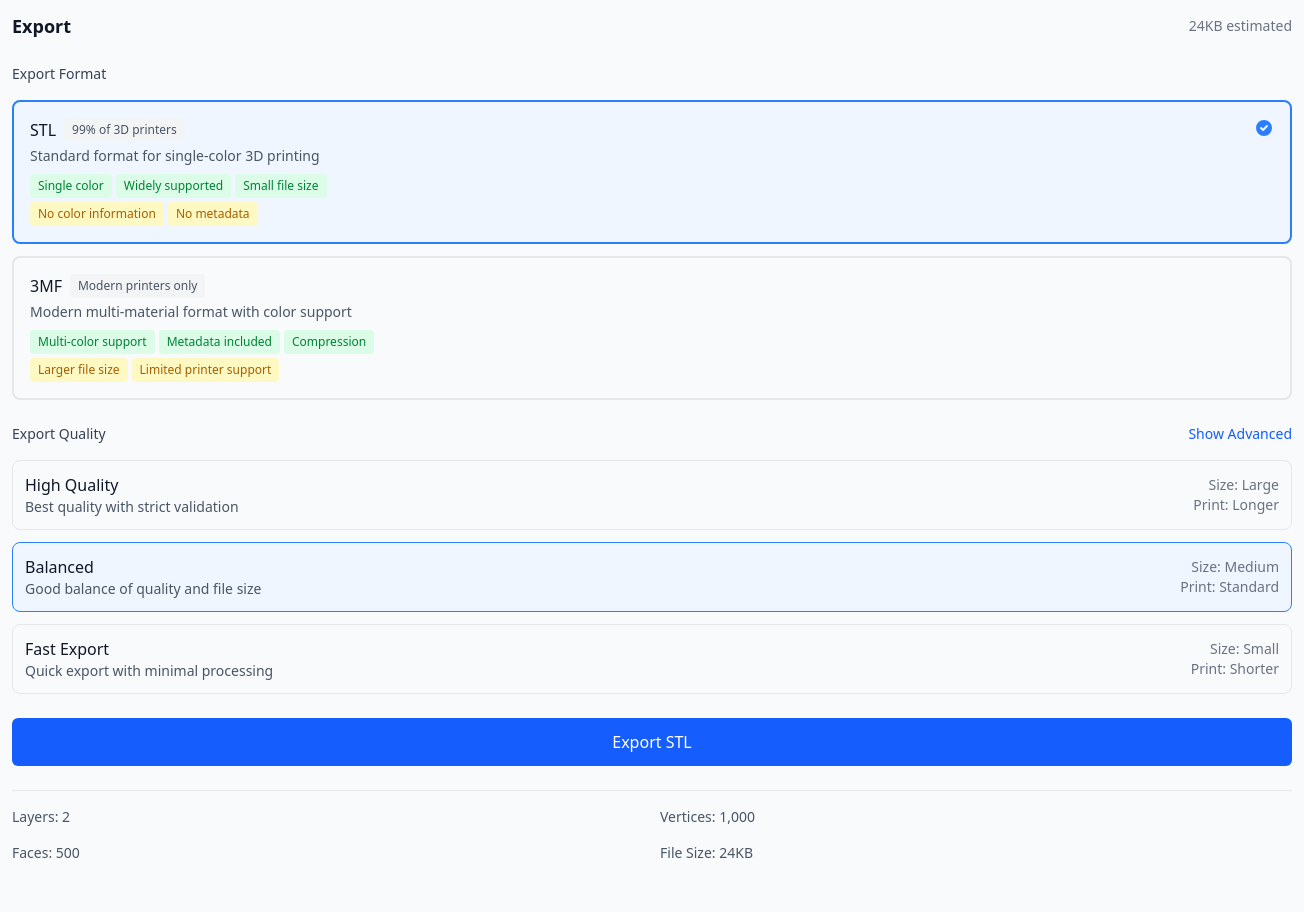
Test: ExportPanel › allows format selection
expect the radio button labelled "STL" is checked: met, box 12,100 -> 1292,244
Select 3MF
Click the radio button labelled "3MF" at (652, 328), box 12,256 -> 1292,400
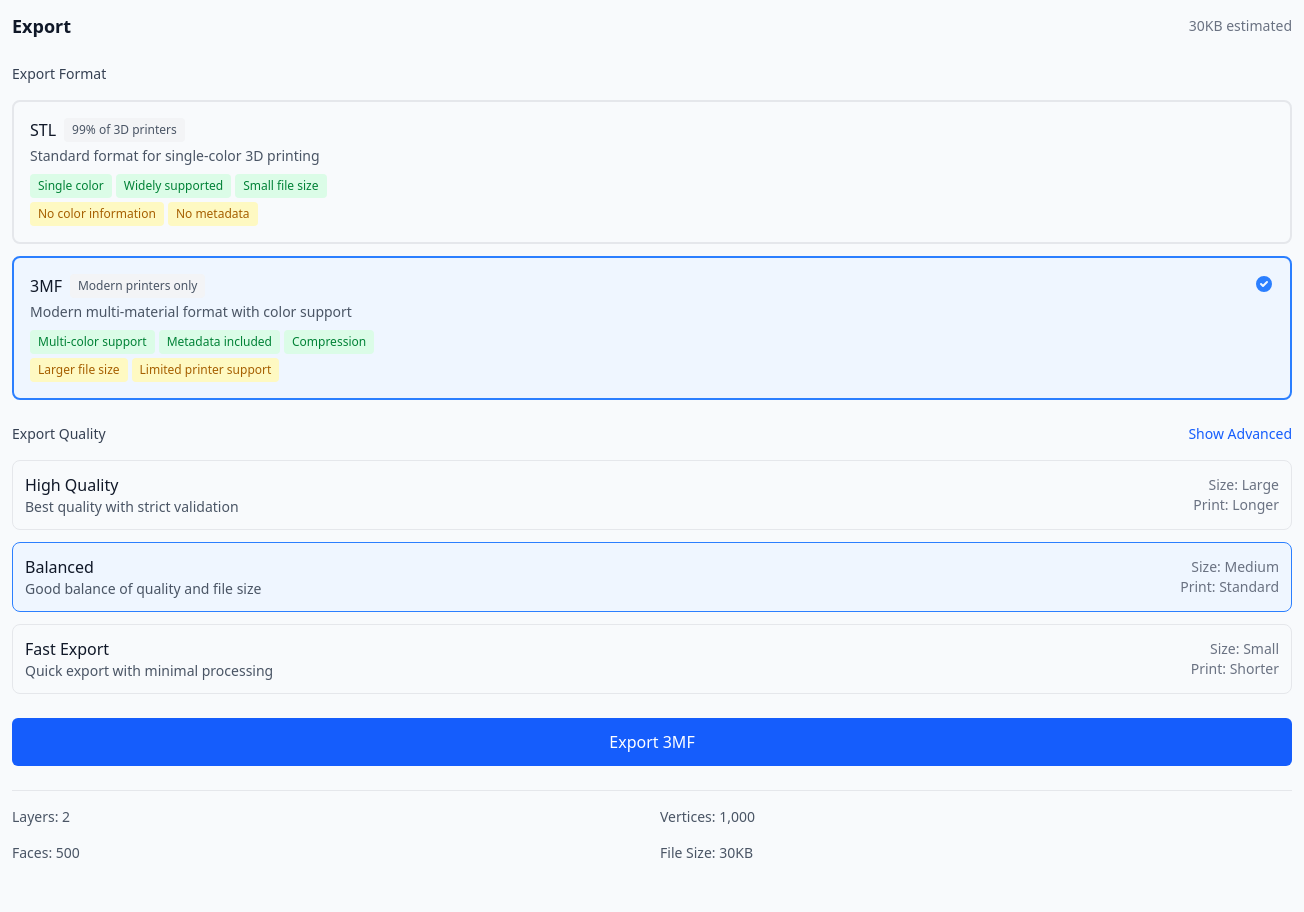
expect the radio button labelled "3MF" is checked: met, box 12,256 -> 1292,400
expect the radio button labelled "STL" is not checked: met, box 12,100 -> 1292,244
